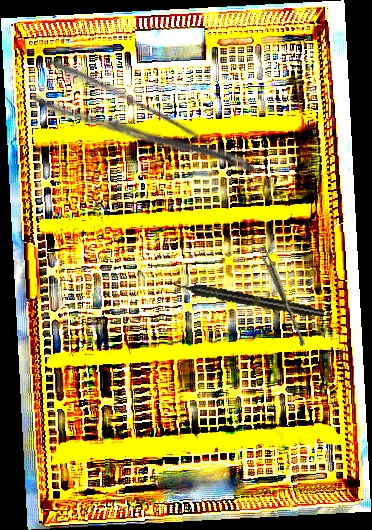Dressing Forceps: (29, 54, 258, 210)
Handpiece: (169, 277, 326, 321)
Tissue Forceps: (256, 244, 310, 347)
